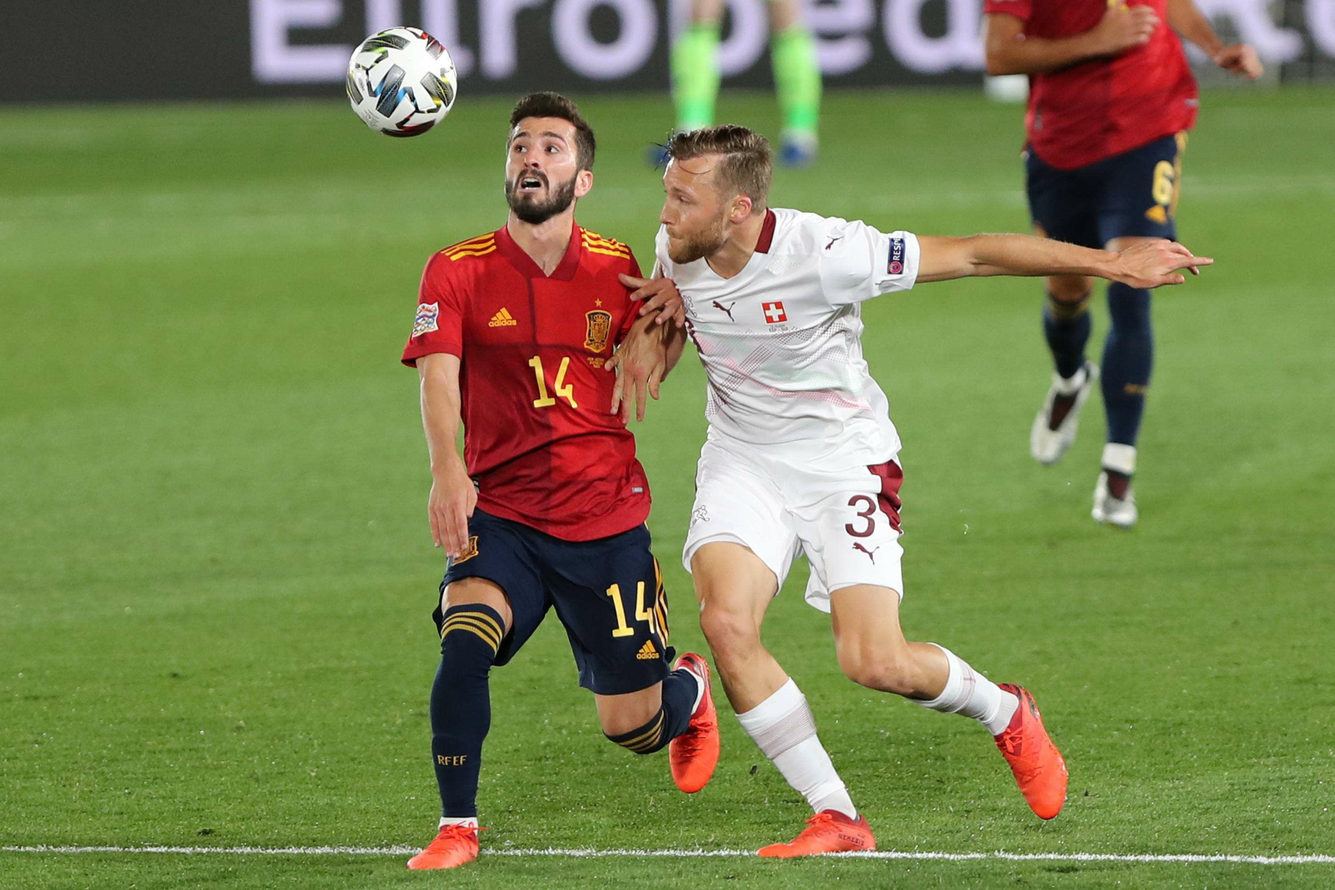football: (346, 23, 457, 139)
